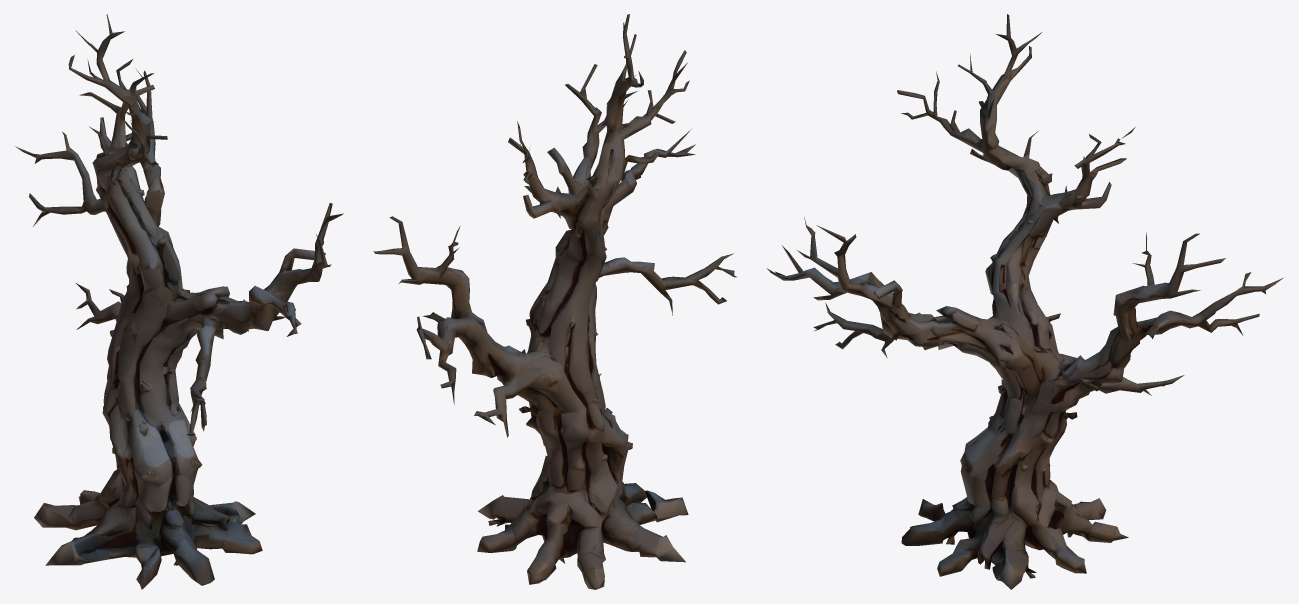
Rendered from tree_dead.glb.
The picture shows the model from 3 angles, left to right: view 1: azimuth 30°, elevation 25°; view 2: azimuth 150°, elevation 25°; view 3: azimuth 270°, elevation 25°; orthographic projection. The views are drawn at different scales.
Parts seen in each view (by area): view 1: tripo_node_764dc8c0-41fc-4a36-a25b-784e6df11a2b; view 2: tripo_node_764dc8c0-41fc-4a36-a25b-784e6df11a2b; view 3: tripo_node_764dc8c0-41fc-4a36-a25b-784e6df11a2b.
Part boxes in pixels (left/top/right/bottom): tripo_node_764dc8c0-41fc-4a36-a25b-784e6df11a2b: left=15, top=14, right=343, bottom=589; tripo_node_764dc8c0-41fc-4a36-a25b-784e6df11a2b: left=373, top=14, right=736, bottom=589; tripo_node_764dc8c0-41fc-4a36-a25b-784e6df11a2b: left=767, top=14, right=1283, bottom=589.
Bounding box in the file's own units: 0.408 × 1 × 0.9223.
1 material, 1 textured.
